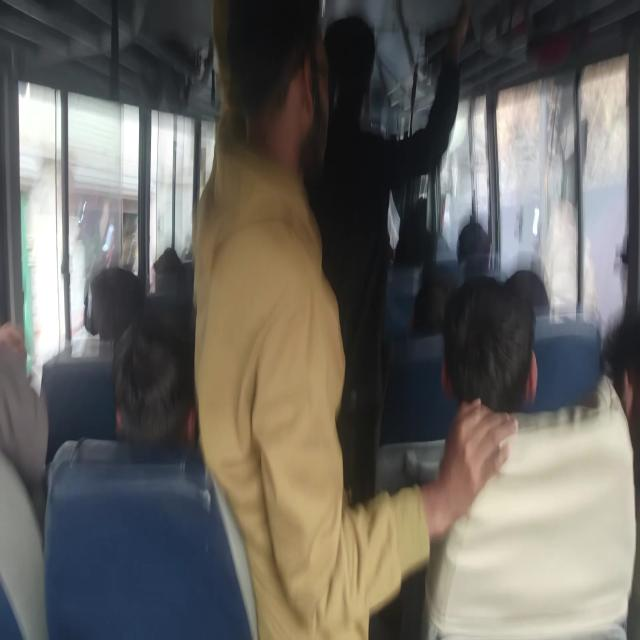person: (413, 266, 536, 414), (116, 329, 195, 465), (259, 24, 322, 160), (331, 32, 402, 126), (0, 338, 54, 458), (605, 309, 640, 465), (84, 244, 140, 324), (425, 253, 459, 336), (459, 198, 496, 271), (399, 200, 434, 271), (516, 268, 550, 330), (151, 236, 179, 282)
